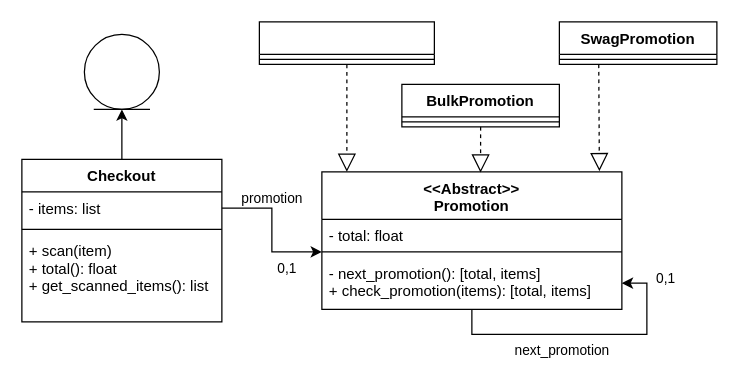
The diagram is 739 pixels wide and 380 high, and some of its shapes have lost their labels. The centre of each missing label's shape, as x and y in pixels:
"Database" belongs at (x=121, y=71).
"TwoForOnePromotion" belongs at (x=346, y=42).
